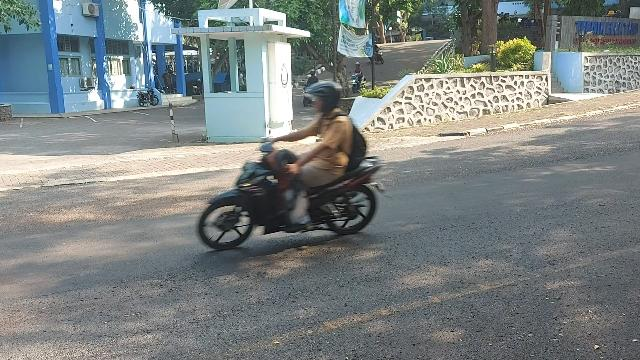helm: (304, 81, 343, 113)
motor: (198, 143, 393, 252)
